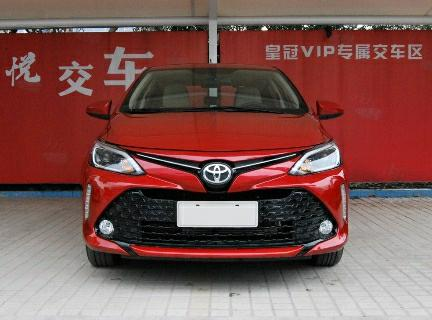car: (73, 61, 364, 278)
